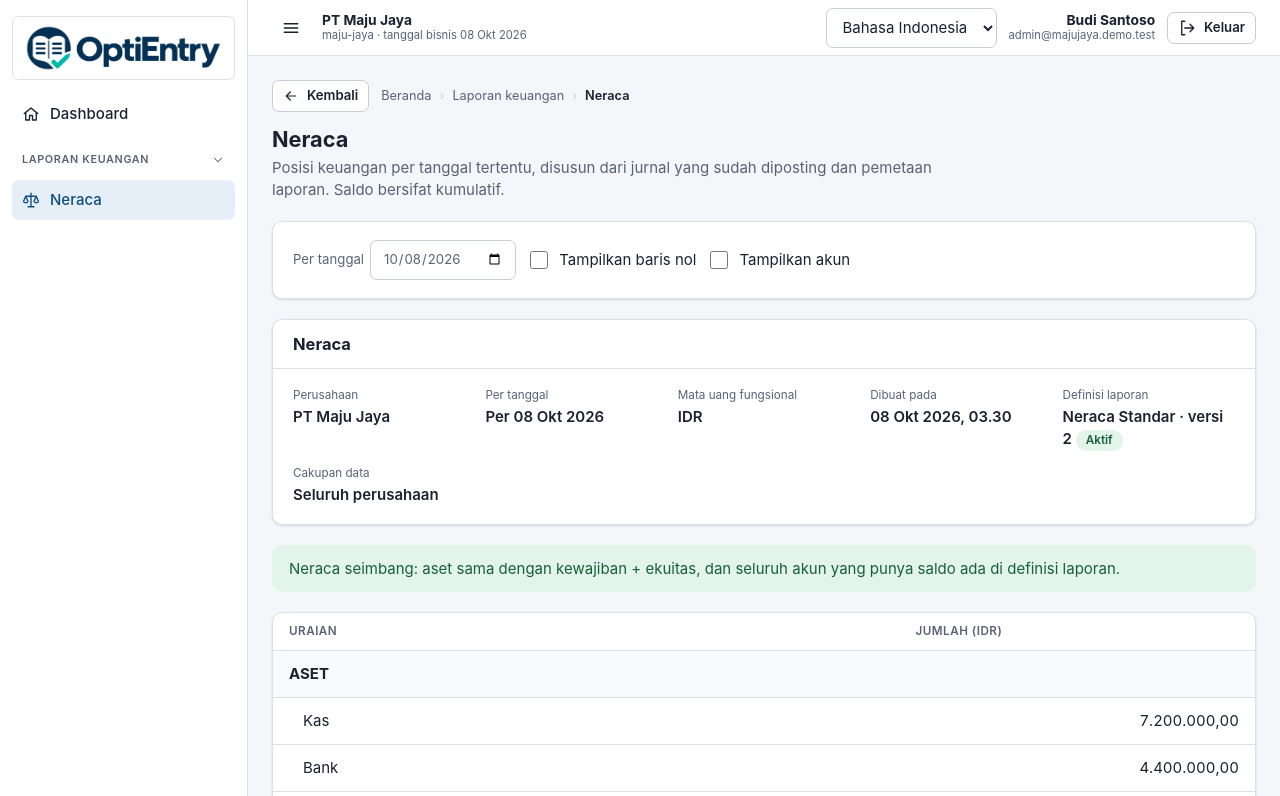
balance sheet › shows the accounts under each line when asked, without asking the server again
expect the text "Kas Kecil" is not shown: met
Click the checkbox labelled "Tampilkan akun" at x=719, y=260, box top-left (710, 251), bottom-right (728, 269)
(page scrolled)
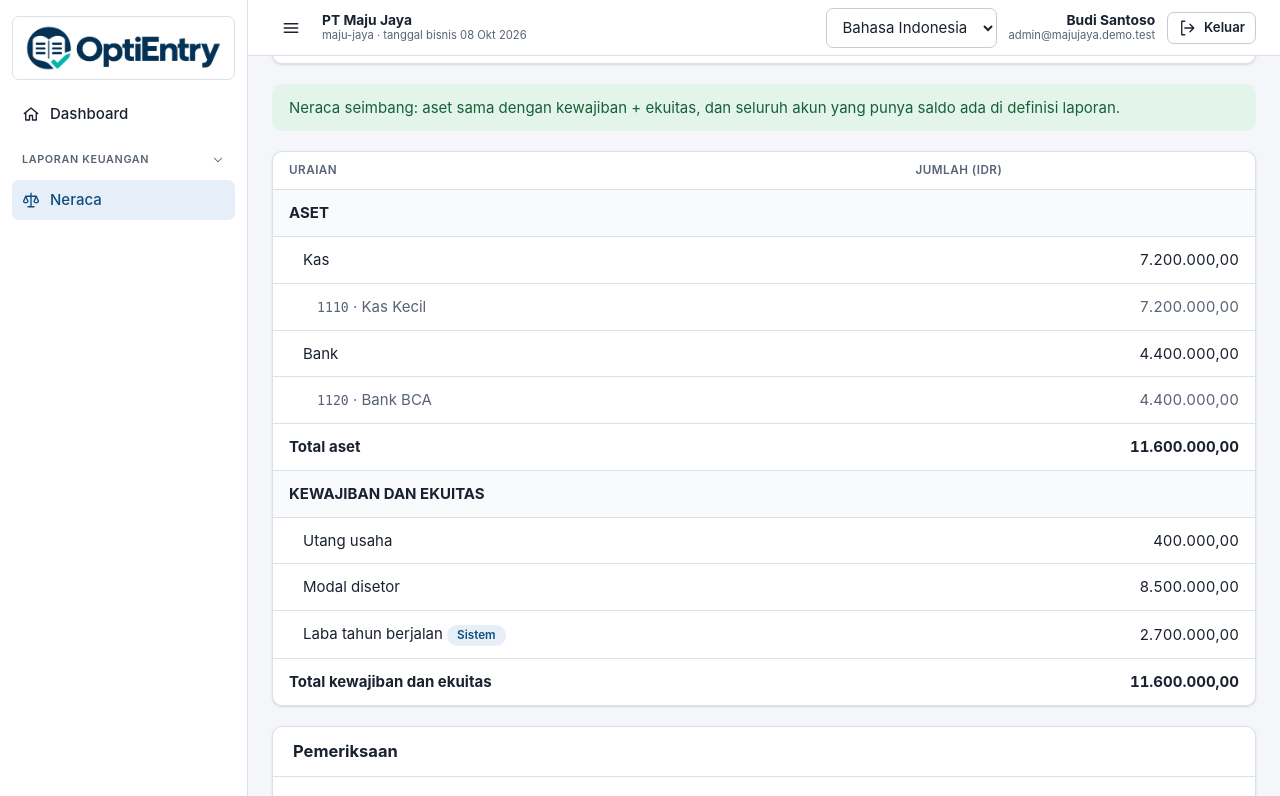
expect the text "Kas Kecil" is shown: met, box top-left (362, 297), bottom-right (426, 316)
expect the text "Bank BCA" is shown: met, box top-left (362, 390), bottom-right (432, 409)
